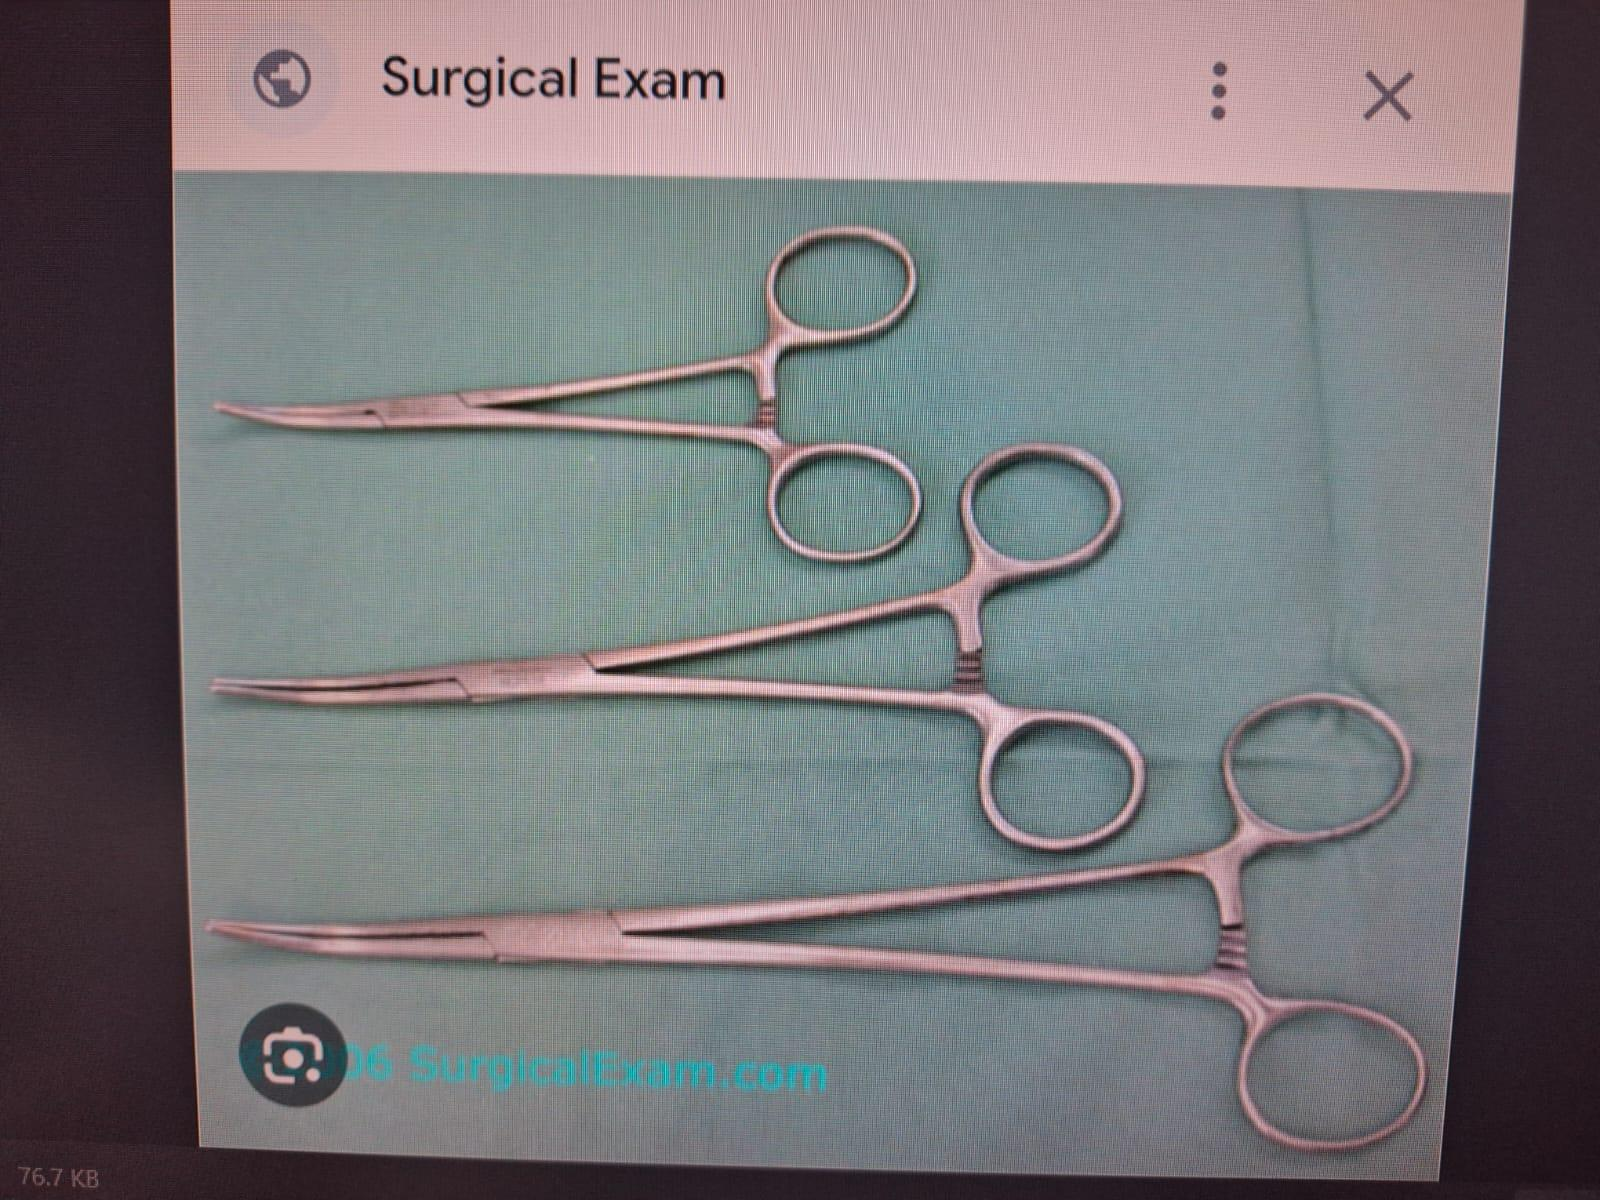Artery Forceps: (198, 668, 1438, 1160), (208, 440, 1164, 850), (216, 214, 934, 564)
